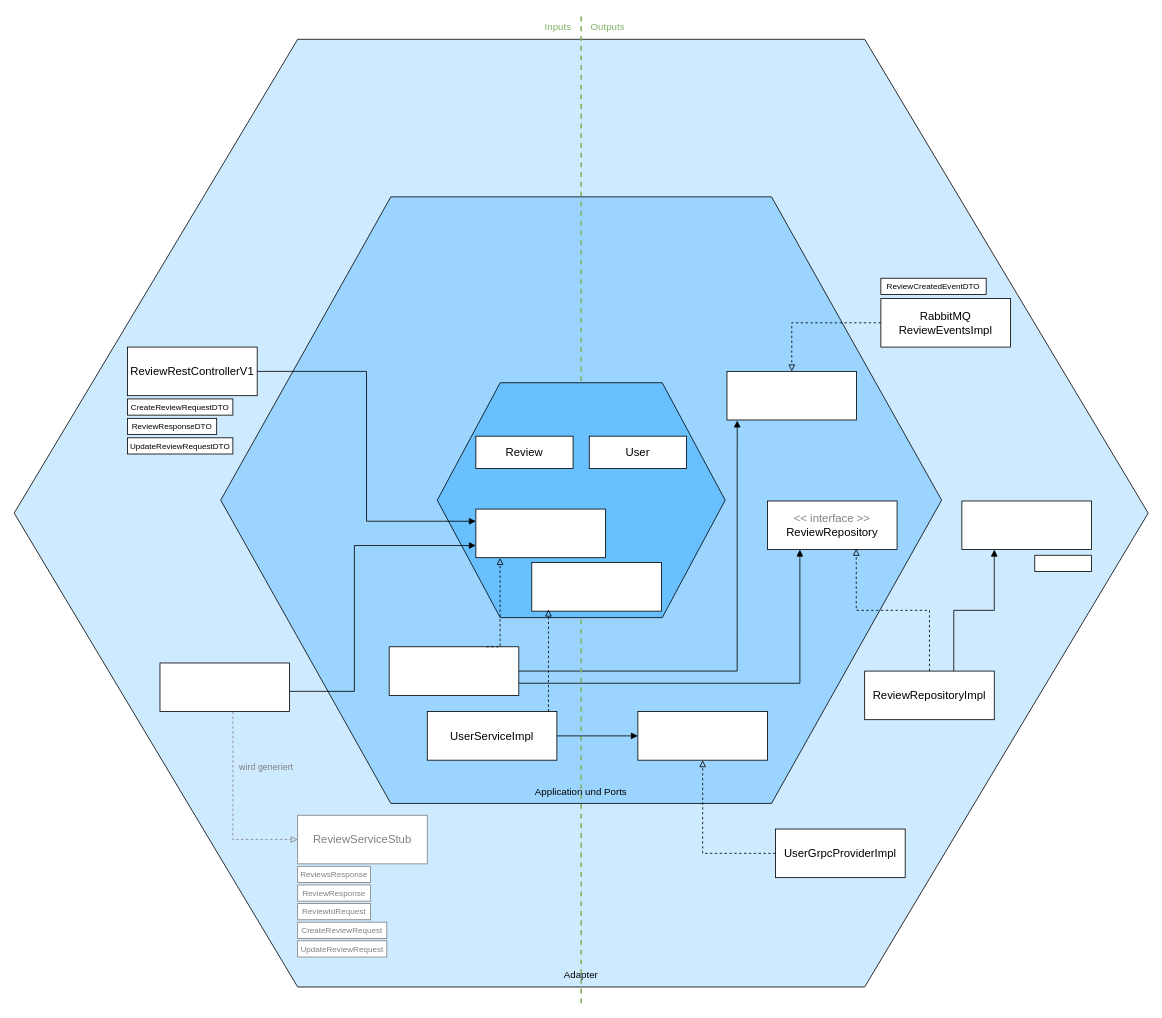
Image size: 1162x1018. Some labels were removed from this diagram. Each missing label, with the centre of its shape:
"<< interface >> JpaReviewRepository" goes at (x=1026, y=525).
"<< interface >> ReviewEvents" goes at (x=791, y=395).
"<< interface >> ReviewService" goes at (x=540, y=533).
"<< interface >> UserProvider" goes at (x=702, y=735).
"<< interface >> UserService" goes at (x=596, y=586).
"ReviewEntity" goes at (x=1062, y=562).
"ReviewGrpcController" goes at (x=224, y=687).
"ReviewServiceImpl" goes at (x=453, y=670).
